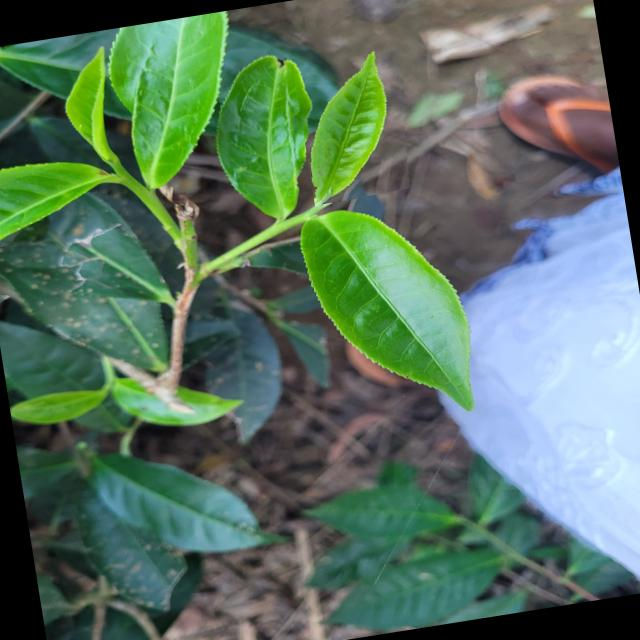Catagory A(1-2 days): (294, 50, 421, 206)
